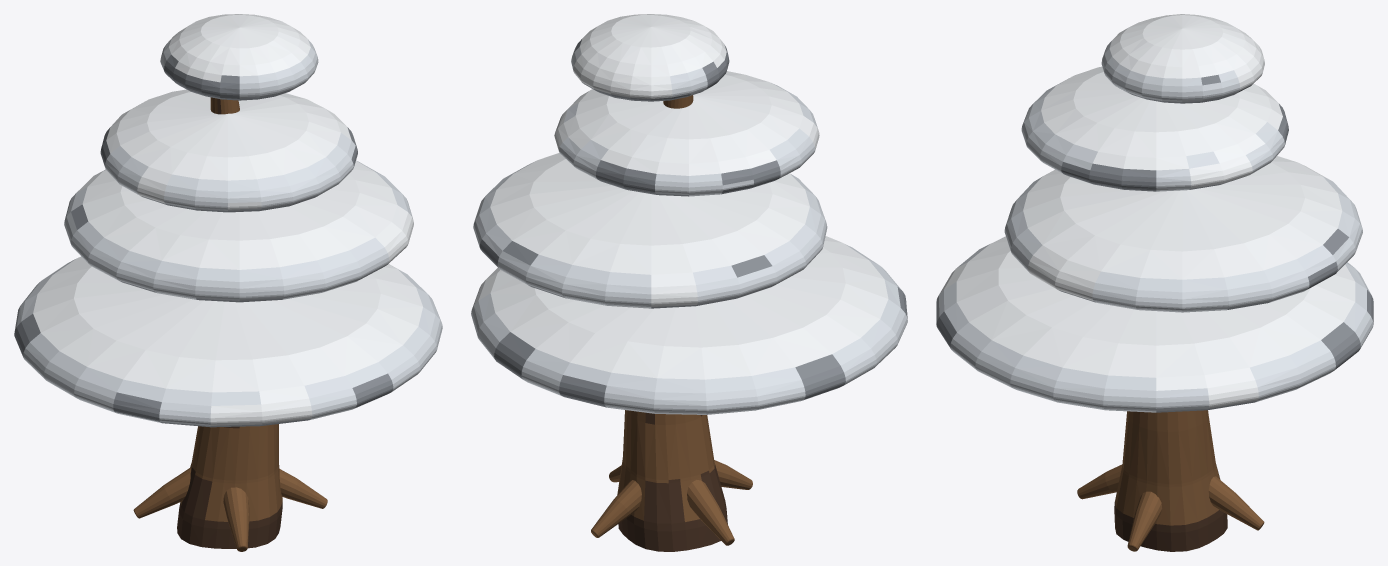
Rendered from CanopyTree.obj.
3 renders of one model, left to right at view 1: azimuth 30°, elevation 25°; view 2: azimuth 150°, elevation 25°; view 3: azimuth 270°, elevation 25°, orthographic. The views are drawn at different scales.
Size of the model in its own units: 7.59 by 9.66 by 7.54.
